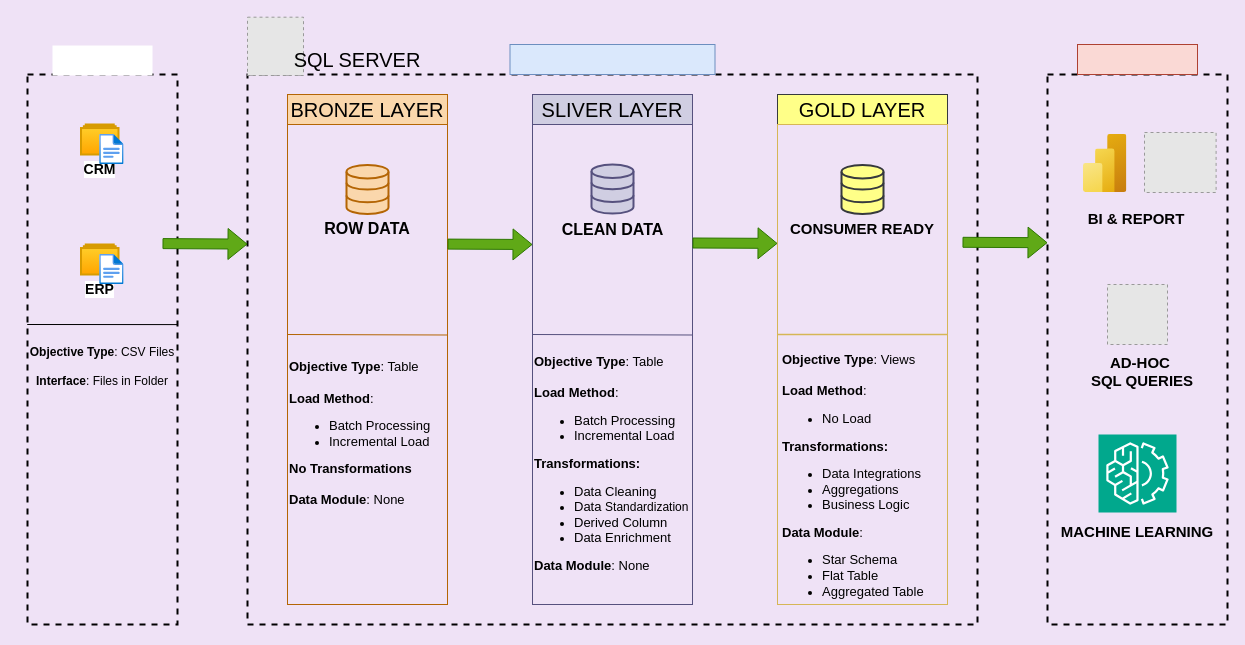
The diagram is 1245 pixels wide and 645 high, and some of its shapes have lost their labels. Grey dashed boxes stand in for pictures. The shapes that lost their labels are listed below. From the top down, each one's centre as x and y in pixels, then its label:
At (x=102, y=60): "SOURCE".
At (x=612, y=59): "DATA WAREHOUSE".
At (x=1137, y=59): "CONSUMER".
